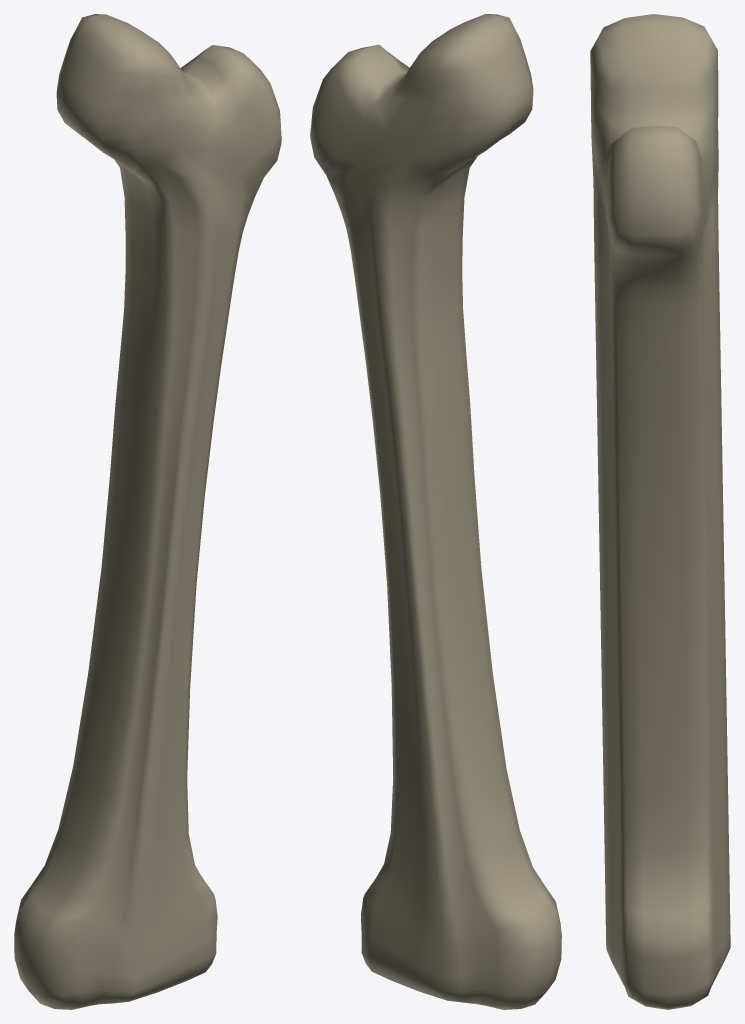
File: FemurBone.fbx
3 views of the same model, side by side, from view 1: azimuth 30°, elevation 25°; view 2: azimuth 150°, elevation 25°; view 3: azimuth 270°, elevation 25° (orthographic).
Visible parts, largest first — view 1: Bone_06; view 2: Bone_06; view 3: Bone_06.
Part boxes in pixels (x1,y1,x2,y2): Bone_06: (14, 14, 281, 1009); Bone_06: (310, 14, 561, 1009); Bone_06: (590, 14, 730, 1009).
Size of the model in its own units: 30.66 by 117 by 15.59.
